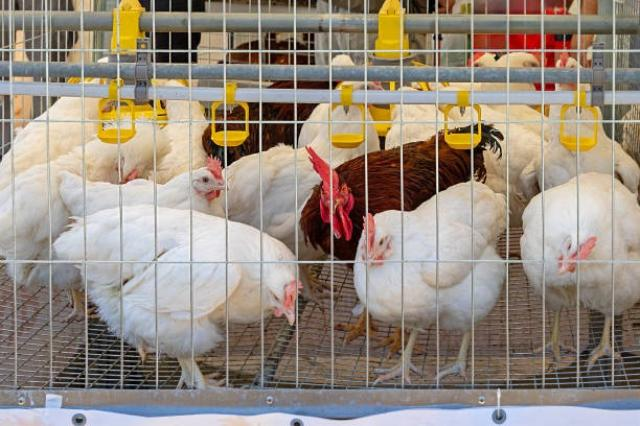Chicken: (54, 207, 301, 388), (353, 181, 507, 380), (305, 123, 505, 268), (521, 172, 640, 361), (58, 157, 231, 221)
